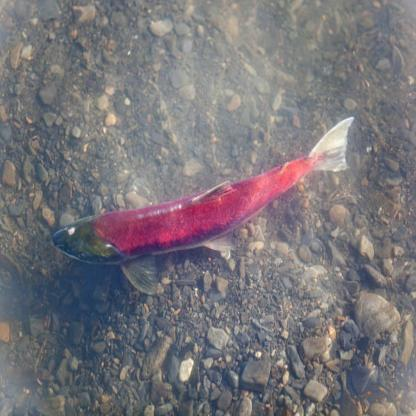sockeye: (57, 107, 360, 285)
